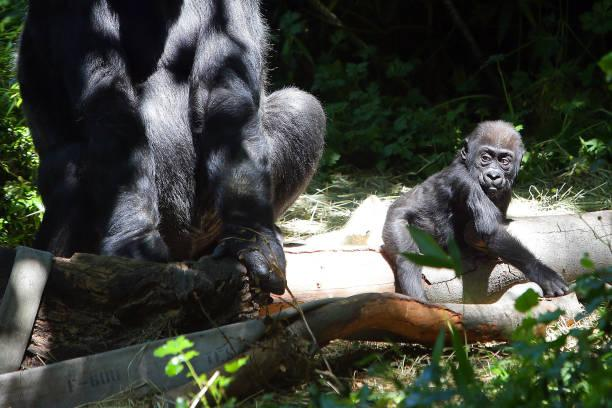gorille_Autres: (361, 112, 588, 321)
